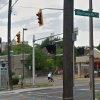Traffic light: (33, 5, 53, 36)
